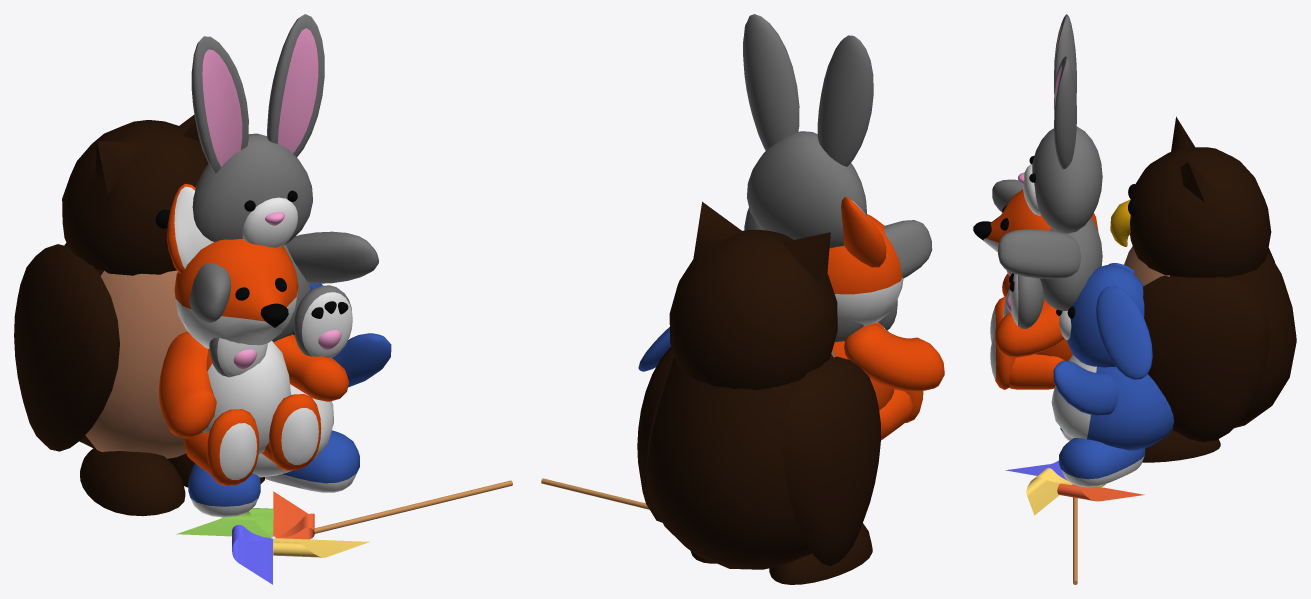
The model's file is Furniture-151.fbx.
The picture shows the model from 3 angles, left to right: view 1: azimuth 30°, elevation 25°; view 2: azimuth 150°, elevation 25°; view 3: azimuth 270°, elevation 25°; orthographic projection. The views are drawn at different scales.
Parts seen in each view (by area): view 1: Sphere05_6_1, Sphere01_7_1, Sphere03_7_1, Sphere02_8_1, Sphere03_8_1, Sphere06_6_1, Sphere08_2_1, Sphere05_7_1, Capsule02_4_1, Sphere03_10_1, Sphere08_3_1, Sphere09_1_1 (+18 smaller); view 2: Sphere03_7_1, Sphere01_7_1, Sphere05_6_1, Sphere03_8_1, Sphere05_7_1, Sphere06_6_1, Capsule02_4_1, Sphere02_8_1, Sphere08_2_1, Sphere07_5_1, Sphere05_9_1, Sphere07_6_1 (+4 smaller); view 3: Sphere07_5_1, Sphere01_7_1, Sphere06_7_1, Sphere03_8_1, Sphere03_7_1, Sphere01_9_1, Sphere08_3_1, Sphere05_8_1, Sphere12_1, Sphere08_4_1, Sphere01_8_1, Capsule01_4_1 (+14 smaller).
Boxes of the visible parts, x1,y1,x2,y2 form: Sphere05_6_1: (14, 244, 119, 451); Sphere01_7_1: (62, 115, 208, 275); Sphere03_7_1: (64, 243, 187, 458); Sphere02_8_1: (174, 238, 298, 348); Sphere03_8_1: (192, 133, 312, 245); Sphere06_6_1: (267, 14, 324, 157); Sphere08_2_1: (80, 448, 185, 516); Sphere05_7_1: (191, 36, 248, 173); Capsule02_4_1: (158, 332, 216, 438); Sphere03_10_1: (201, 340, 290, 453); Sphere08_3_1: (285, 231, 378, 283); Sphere09_1_1: (294, 285, 352, 357); Sphere03_7_1: (646, 350, 836, 569); Sphere01_7_1: (669, 201, 837, 390); Sphere05_6_1: (783, 356, 880, 565); Sphere03_8_1: (747, 131, 867, 248); Sphere05_7_1: (817, 35, 873, 166); Sphere06_6_1: (743, 14, 799, 150); Capsule02_4_1: (844, 323, 944, 391); Sphere02_8_1: (827, 214, 903, 326); Sphere08_2_1: (769, 523, 872, 584); Sphere07_5_1: (637, 346, 674, 522); Sphere05_9_1: (841, 197, 886, 267); Sphere07_6_1: (884, 220, 932, 278); Sphere07_5_1: (1143, 275, 1269, 442); Sphere01_7_1: (1130, 116, 1271, 277); Sphere06_7_1: (1051, 355, 1173, 450); Sphere03_8_1: (1032, 126, 1102, 233); Sphere03_7_1: (1124, 246, 1296, 428); Sphere01_9_1: (1096, 286, 1152, 379); Sphere08_3_1: (998, 229, 1080, 278); Sphere05_8_1: (1067, 264, 1144, 367); Sphere12_1: (1059, 438, 1145, 487); Sphere08_4_1: (1053, 360, 1118, 415); Sphere01_8_1: (1040, 218, 1102, 310); Capsule01_4_1: (995, 298, 1064, 357).
Size of the model in its own units: 13.24 by 16.69 by 11.04.
